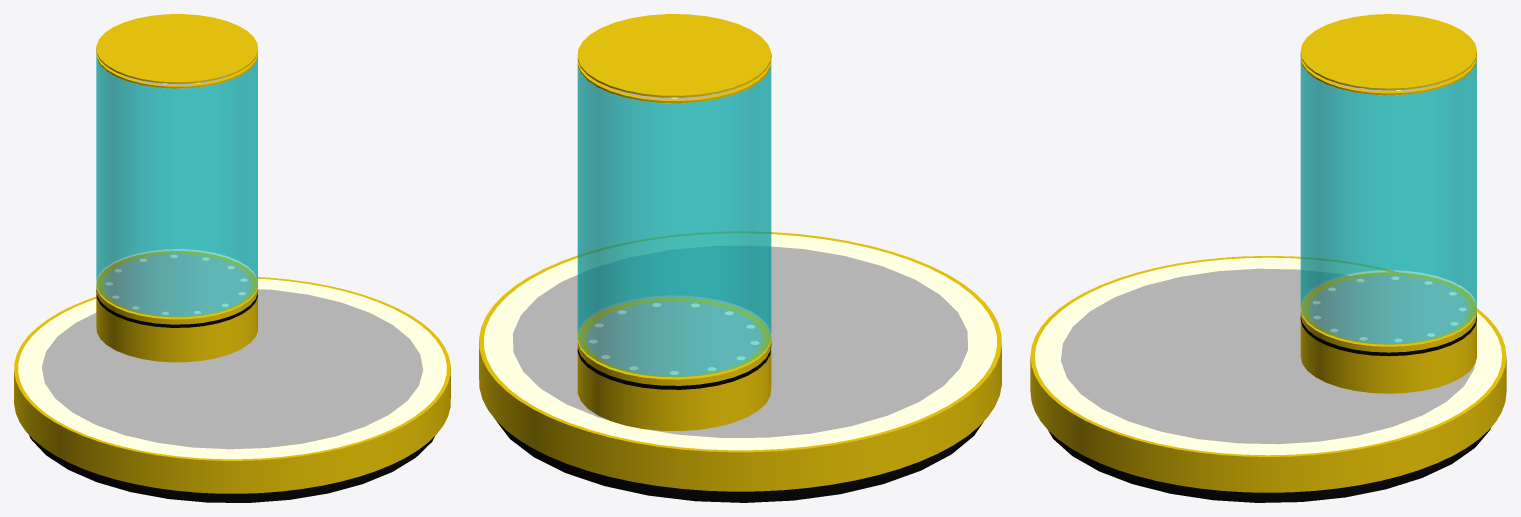
The model's file is StandShow.fbx.
3 views of the same model, side by side, from view 1: azimuth 30°, elevation 25°; view 2: azimuth 150°, elevation 25°; view 3: azimuth 270°, elevation 25° (orthographic). The views are drawn at different scales.
Visible parts, largest first — view 1: Standshow; view 2: Standshow; view 3: Standshow.
Boxes of the visible parts, bbox=[...] form: Standshow: bbox=[14, 14, 450, 502]; Standshow: bbox=[479, 14, 1001, 502]; Standshow: bbox=[1030, 14, 1506, 502].
Bounding box in the file's own units: 261 × 215 × 261.
